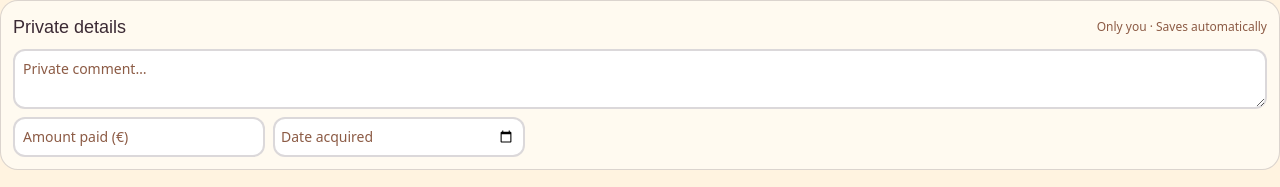
GamePrivateDetailsForm › queues newer edits until the earlier save finishes
The width and height of the screenshot is (1280, 187).
Type "First draft" into the text box.
click(640, 79); type("First draft")  # box 13,49 -> 1267,109
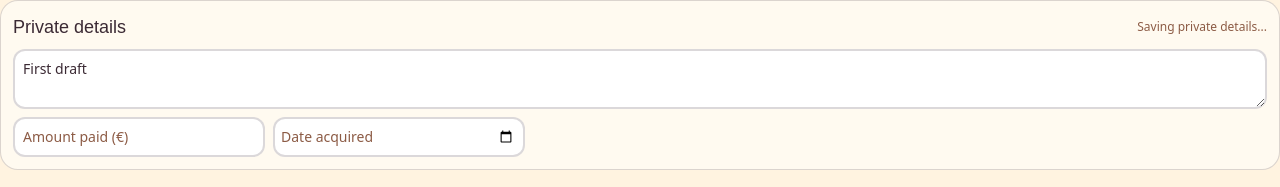
Expected: the text "Saving private details..." is shown, 1137,19 -> 1267,35
Replace the text in the text box with "Final draft" at (640, 79), box 13,49 -> 1267,109
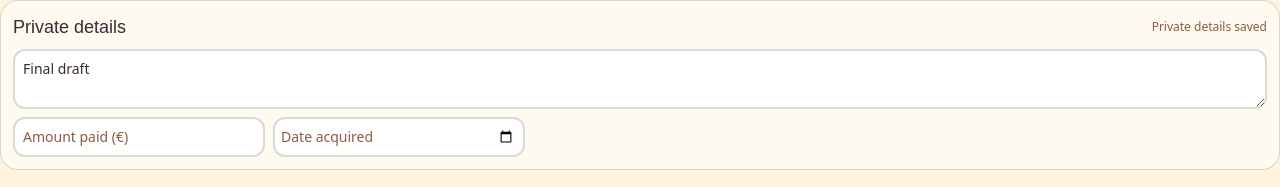
Expected: the text "Private details saved" is shown, 1152,19 -> 1267,35
